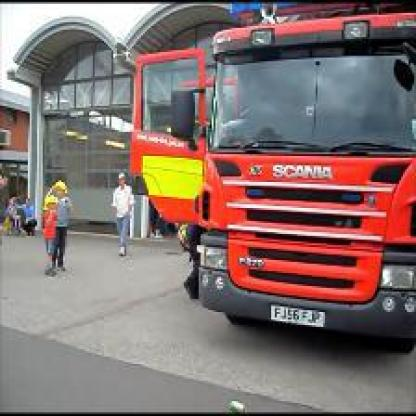other: (212, 156, 410, 304), (127, 140, 203, 218), (56, 124, 126, 149), (39, 170, 69, 214)
